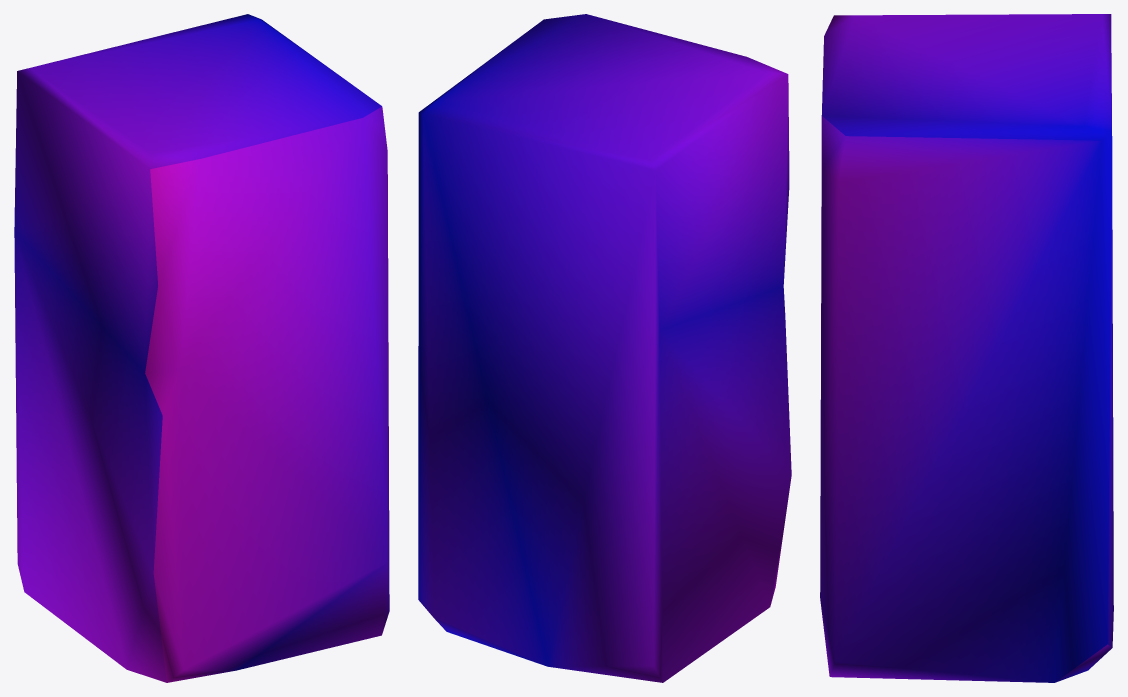
Rendered from SM_Pillar_C.FBX.
The picture shows the model from 3 angles, left to right: view 1: azimuth 30°, elevation 25°; view 2: azimuth 150°, elevation 25°; view 3: azimuth 270°, elevation 25°; orthographic projection. The views are drawn at different scales.
Visible parts, largest first — view 1: SM_Pillar_C; view 2: SM_Pillar_C; view 3: SM_Pillar_C.
Boxes of the visible parts, bbox=[...] form: SM_Pillar_C: bbox=[14, 14, 389, 682]; SM_Pillar_C: bbox=[418, 14, 791, 682]; SM_Pillar_C: bbox=[820, 14, 1113, 682].
Size of what is drawn, in the model's own units: 40.16 by 39.83 by 82.36.
